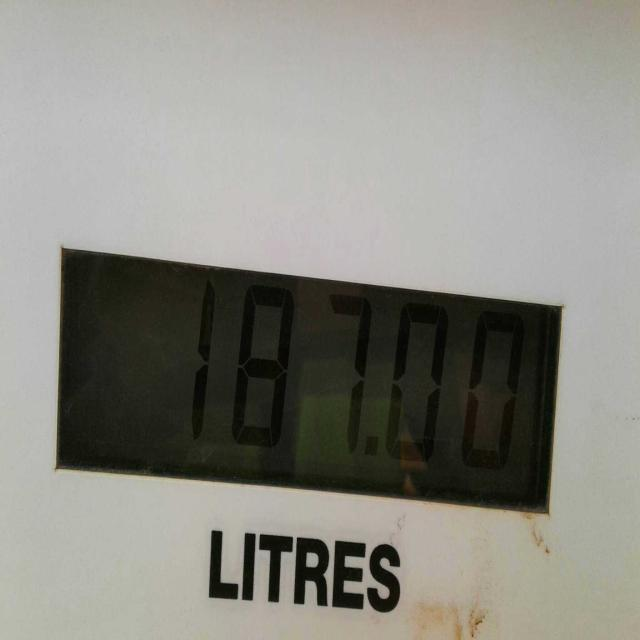.: (370, 436, 380, 461)
0: (464, 309, 523, 472), (387, 298, 442, 462)
1: (195, 282, 212, 438)
7: (329, 292, 370, 457)
8: (232, 280, 289, 446)
